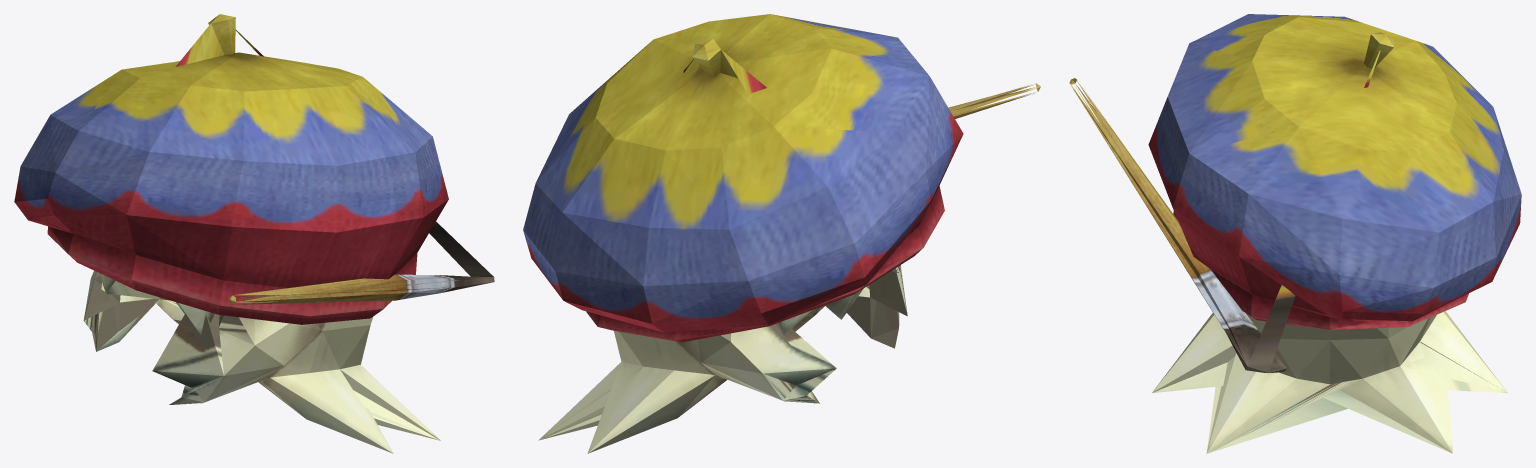
File: Cat_artistHat.obj
The picture shows the model from 3 angles, left to right: view 1: azimuth 30°, elevation 25°; view 2: azimuth 150°, elevation 25°; view 3: azimuth 270°, elevation 25°; orthographic projection. The views are drawn at different scales.
Visible parts, largest first — view 1: Cat_artistHat_tri; view 2: Cat_artistHat_tri; view 3: Cat_artistHat_tri.
Boxes of the visible parts, x1,y1,x2,y2 form: Cat_artistHat_tri: (14,14,494,453); Cat_artistHat_tri: (523,14,1040,453); Cat_artistHat_tri: (1069,14,1521,453).
Bounding box in the file's own units: 0.3929 × 0.3677 × 0.4158.
1 material, 1 textured.
